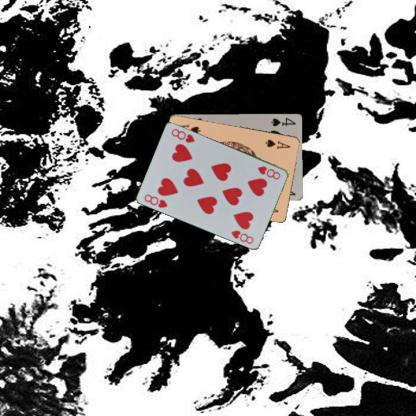4s: (269, 115, 297, 127)
8h: (255, 163, 282, 181), (142, 191, 169, 209)
As: (263, 137, 292, 150)
